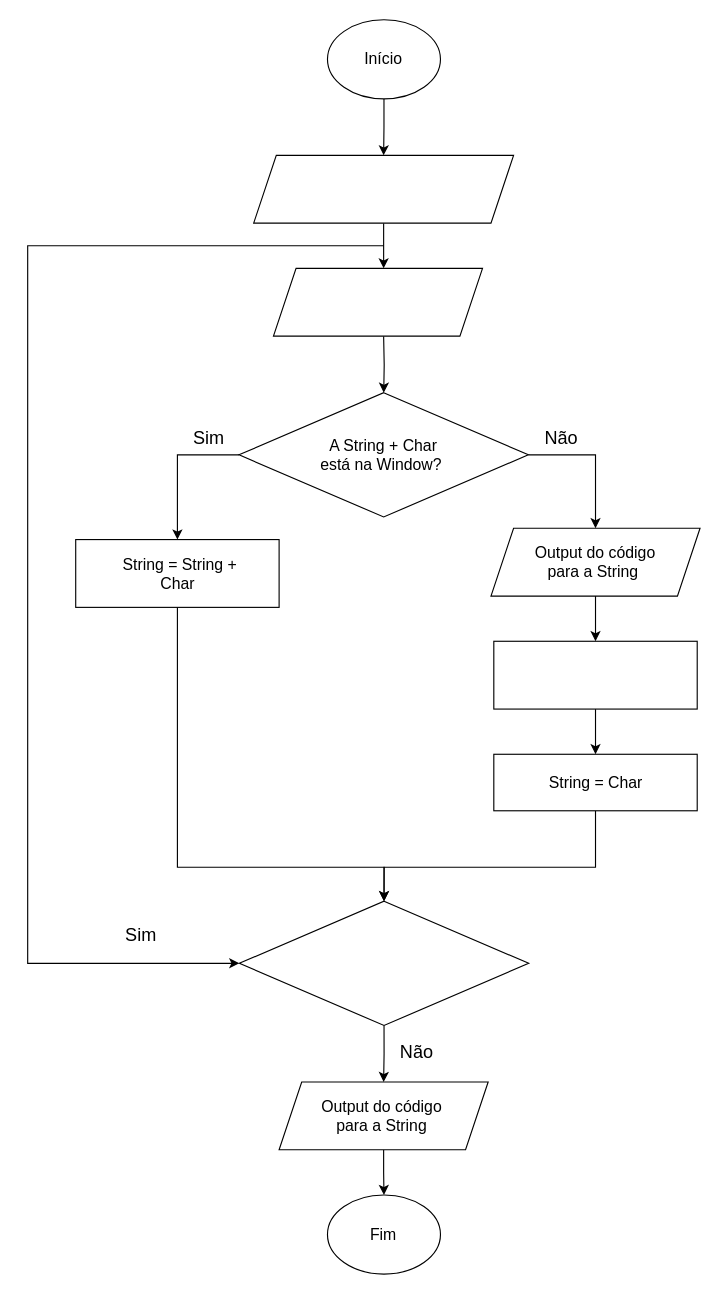
Some shapes in this 720 by 1294 pixel diagram are drawn without their labels. The centre of each missing label's shape, as x and y in pixels:
"Adicionar Entrada na Window para a String + Char" goes at point (595, 674).
"Existe mais bytes para o input?" goes at point (383, 962).
"Input primeiro byte, na String" goes at point (383, 188).
"Input segundo byte na Char" goes at point (377, 301).
